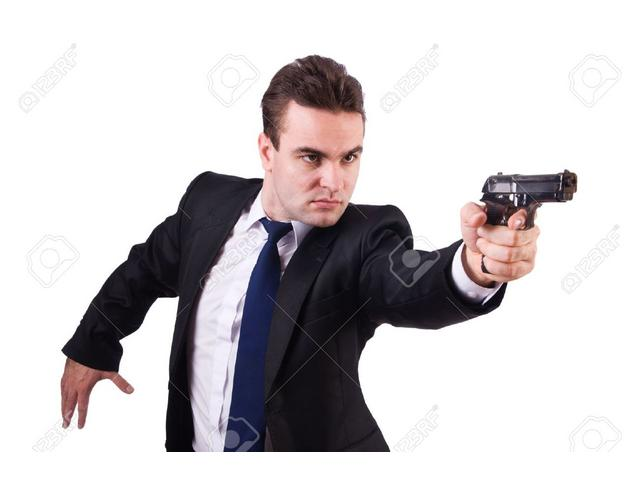pistol: (473, 171, 579, 282)
